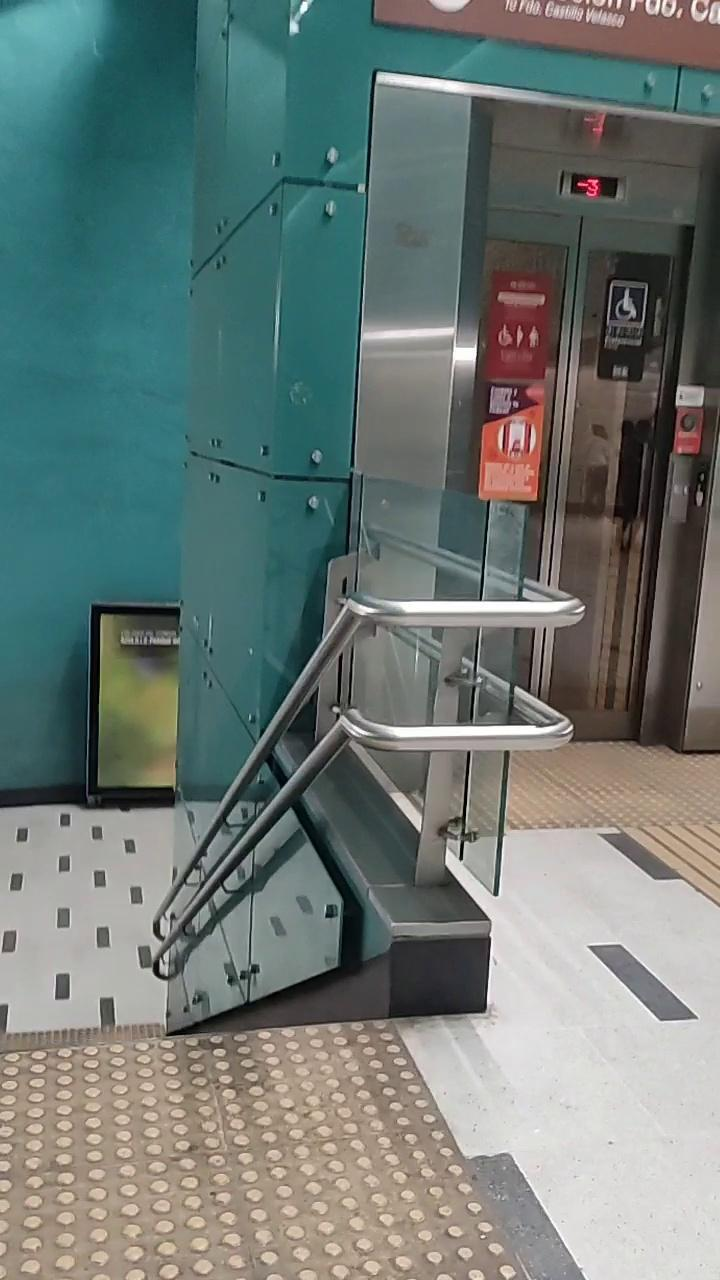handicapped symbol: (615, 288, 639, 322), (496, 322, 513, 347)
